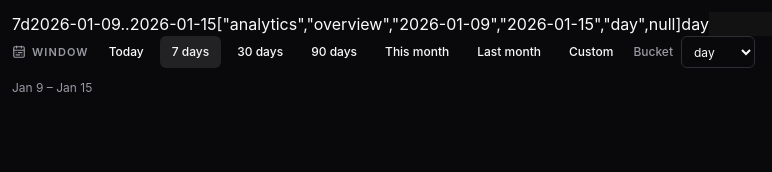
the window drives the URL and the query key › serves a window already fetched from cache instead of asking again
Click the button "30 days".
click(260, 52)  # box [225,36,295,68]
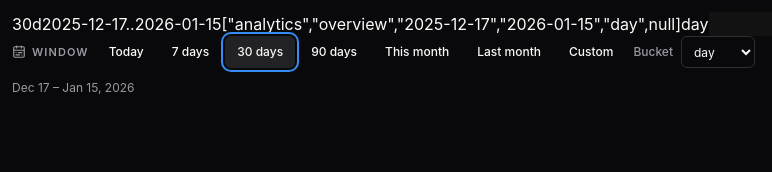
Click the button "7 days".
click(191, 52)  # box [160,36,221,68]
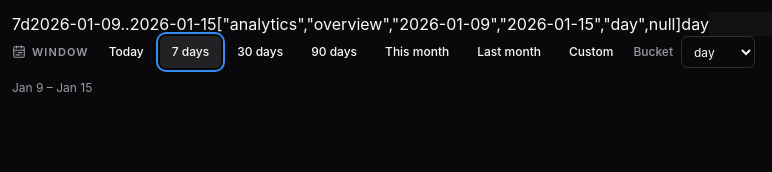
Now the text with test id "range" reads "2026-01-09..2026-01-15", box [30,14,216,34]
